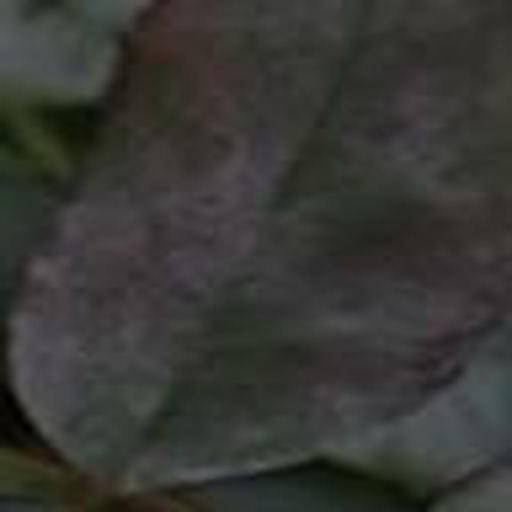powdery_mildew: (8, 0, 512, 512)
